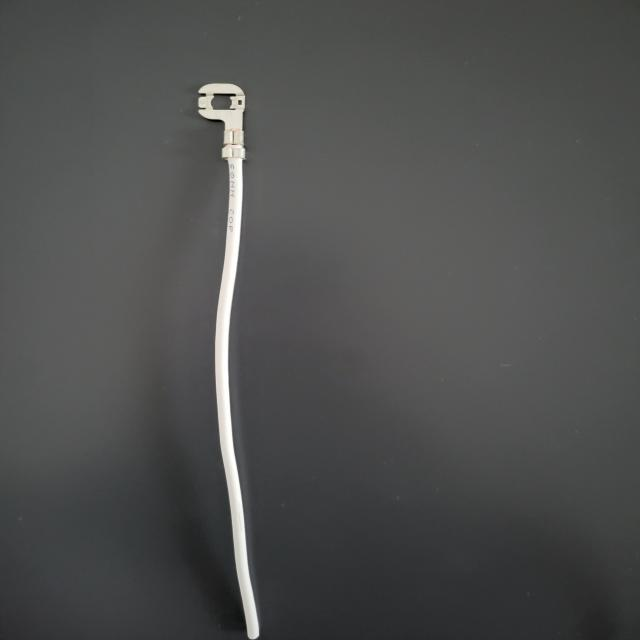good: (24, 5, 620, 640)
